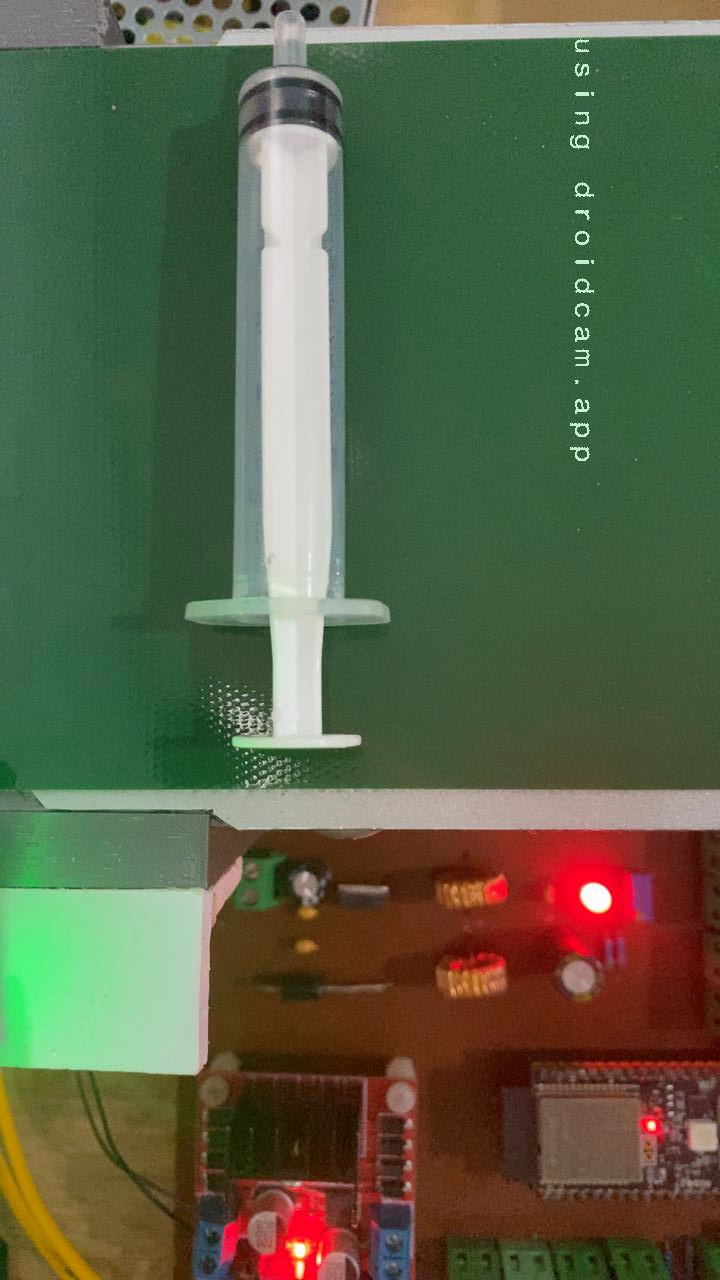syringe: (0, 41, 395, 756)
